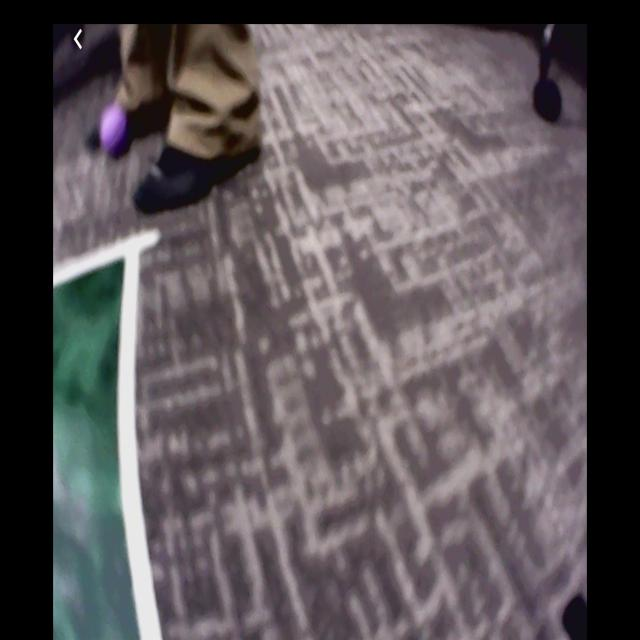ball: (103, 108, 129, 154)
